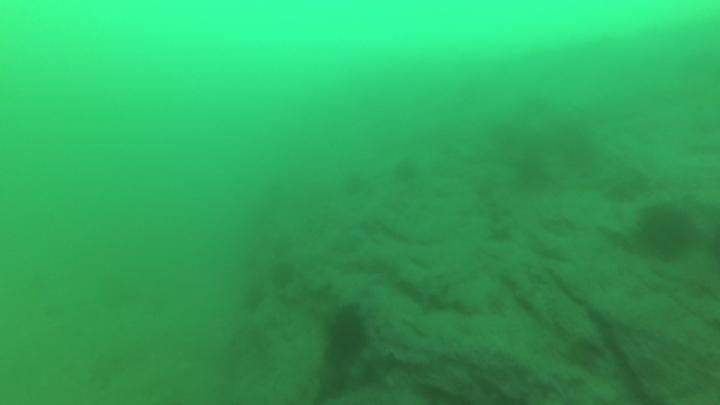echinus: (641, 203, 695, 266), (327, 305, 366, 364)
